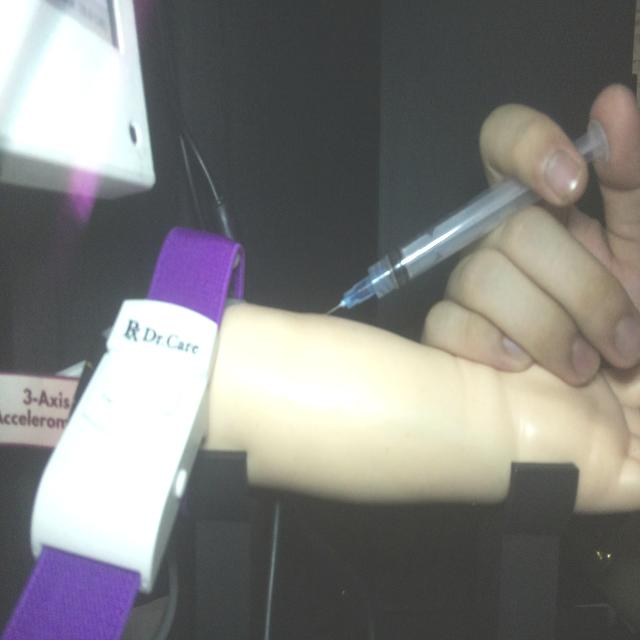26 degrees: (324, 115, 610, 318)
